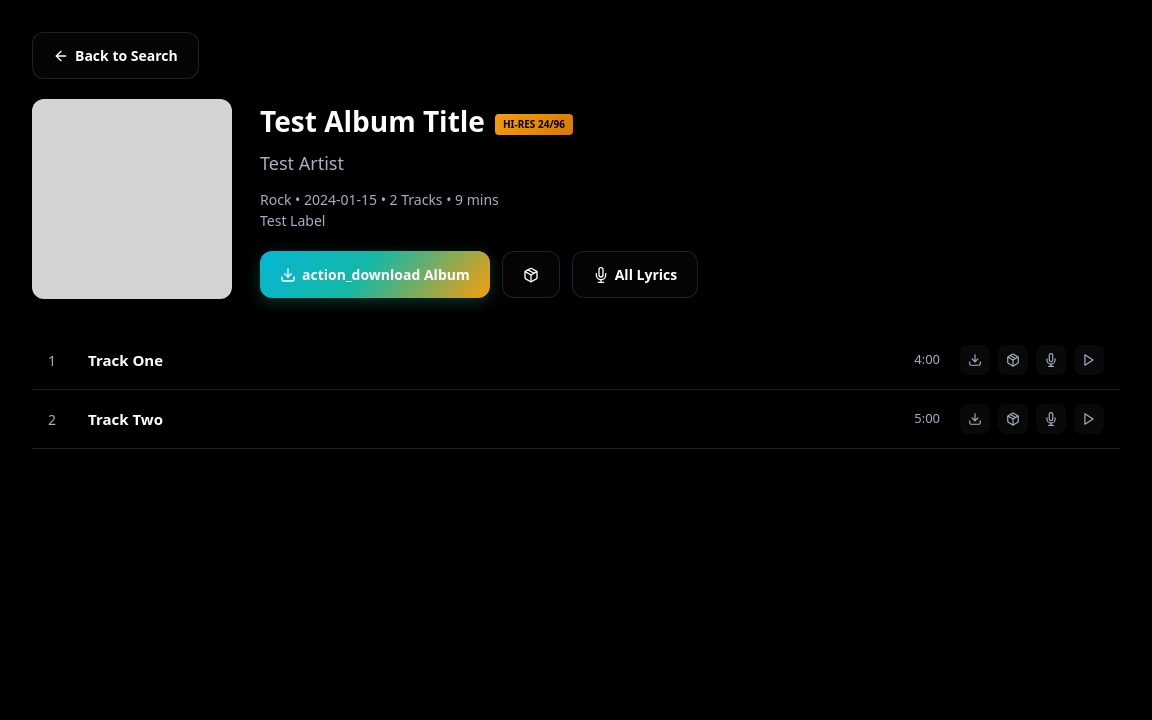
Test case: AlbumDetailView › opens download modal with ZIP and separate options
Click the button "action_download Album": (375, 274) top-left (260, 251), bottom-right (490, 298)
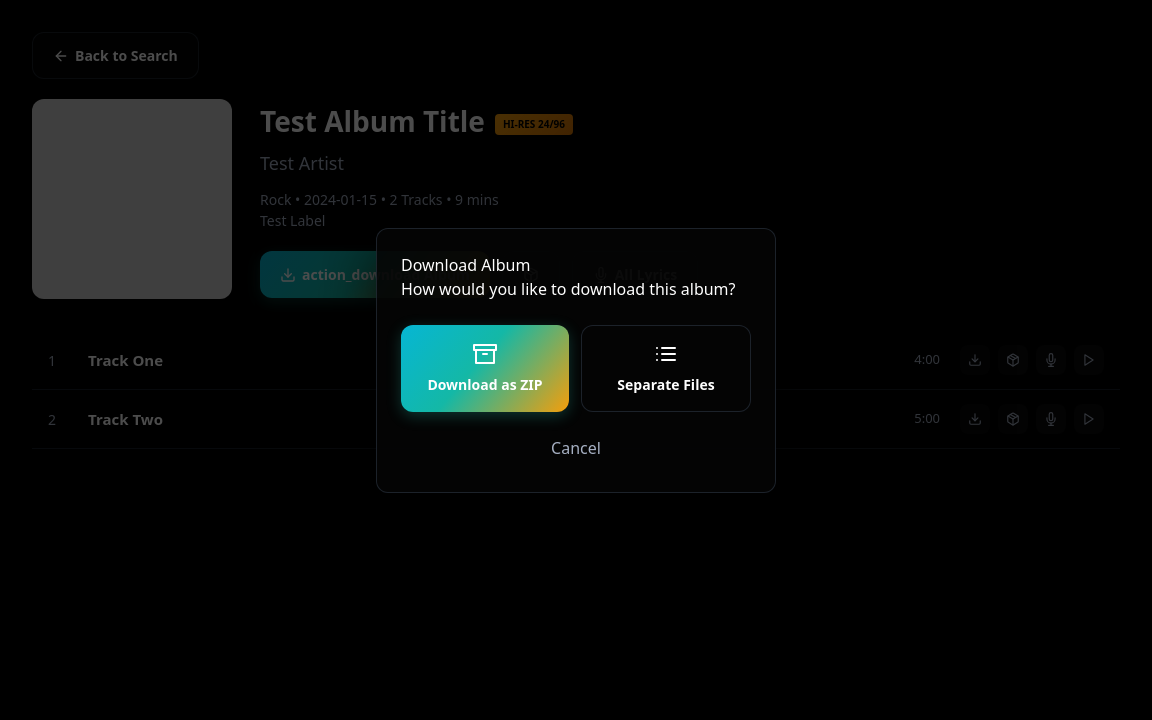
Check: the text "Download as ZIP" is shown, box top-left (427, 374), bottom-right (543, 394)
Check: the text "Separate Files" is shown, box top-left (617, 374), bottom-right (715, 394)
